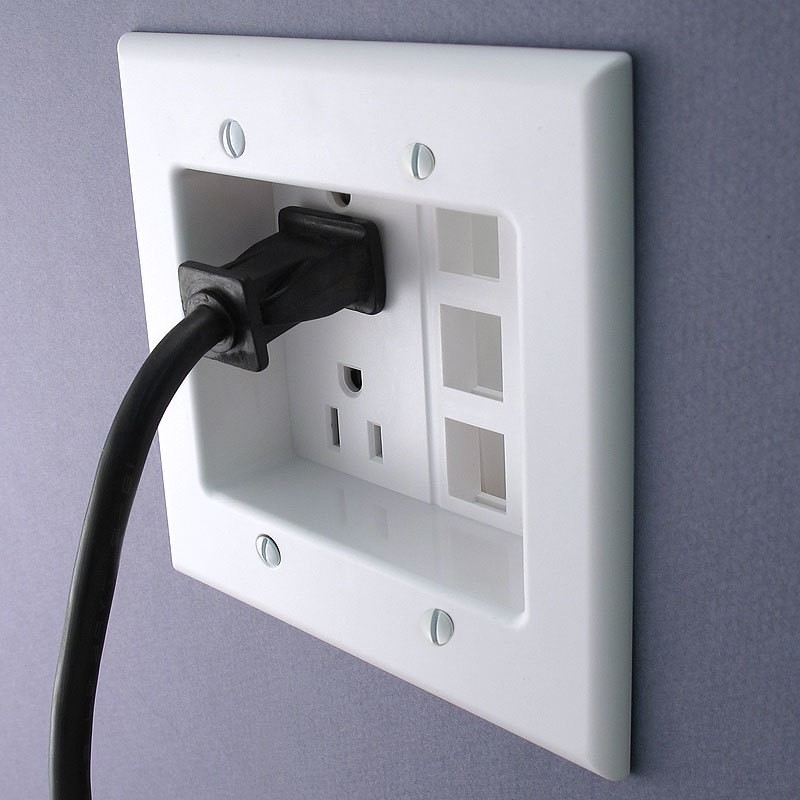outlet: (306, 355, 397, 472)
